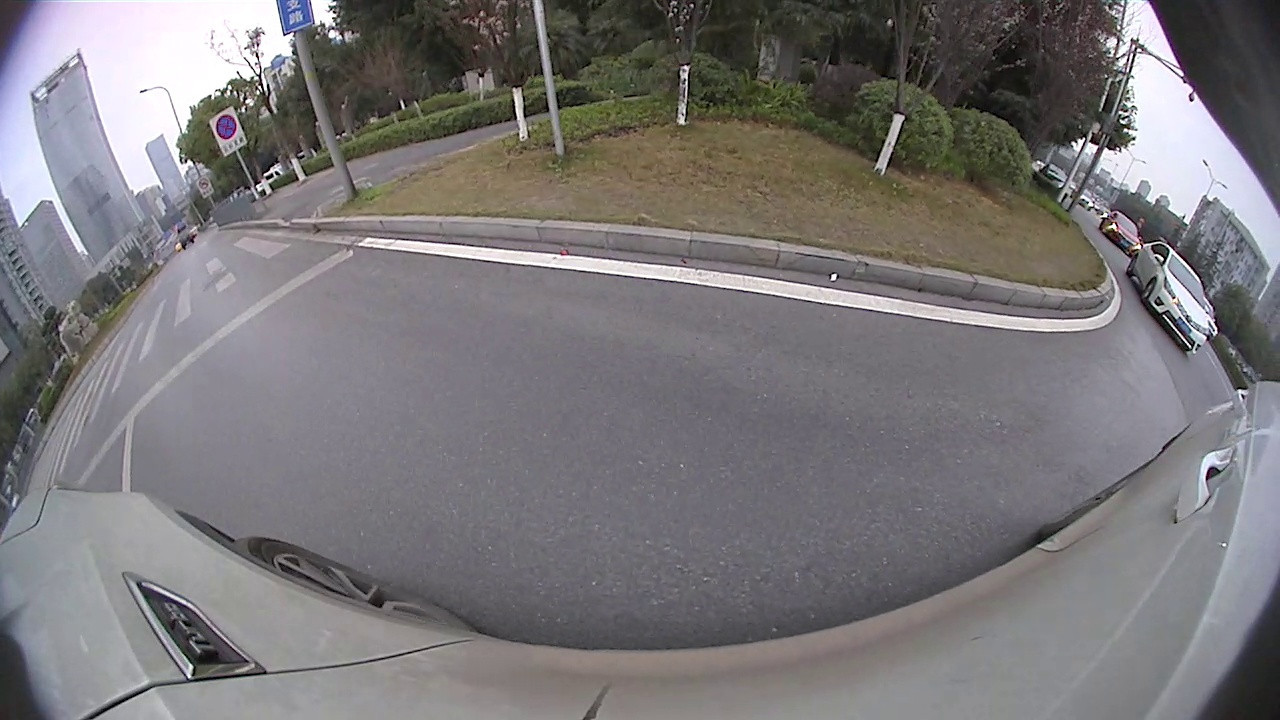bus: (757, 131, 914, 208), (685, 137, 713, 184)
car: (1017, 238, 1278, 448), (898, 150, 1114, 273), (580, 134, 700, 225), (719, 152, 830, 215), (486, 158, 560, 207)
front: (1051, 285, 1144, 381), (904, 190, 924, 233), (716, 179, 729, 199)
rear: (1024, 236, 1053, 276), (534, 177, 550, 208), (743, 179, 759, 206)
